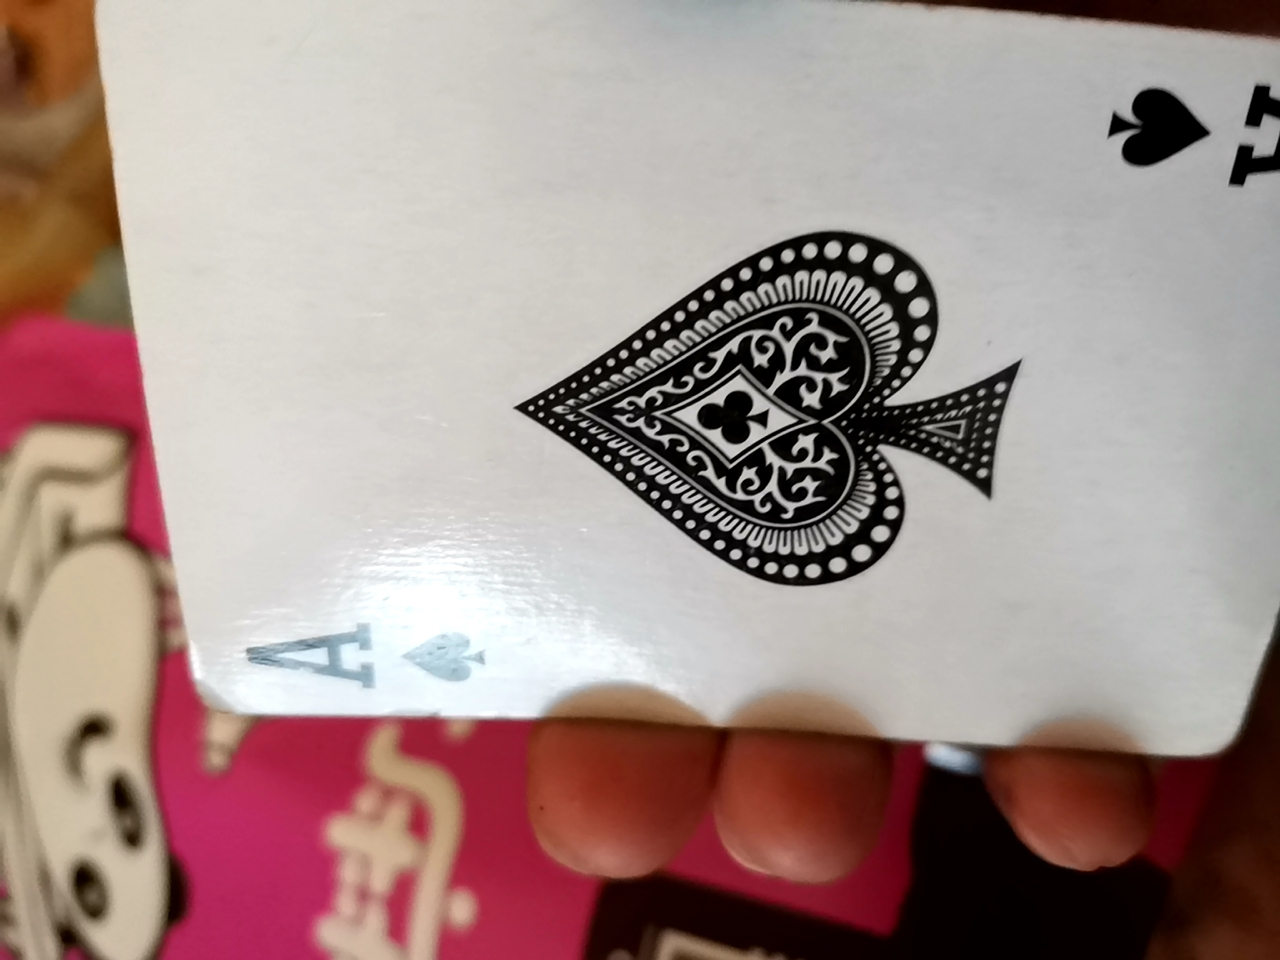ht a: (80, 3, 1280, 803)
